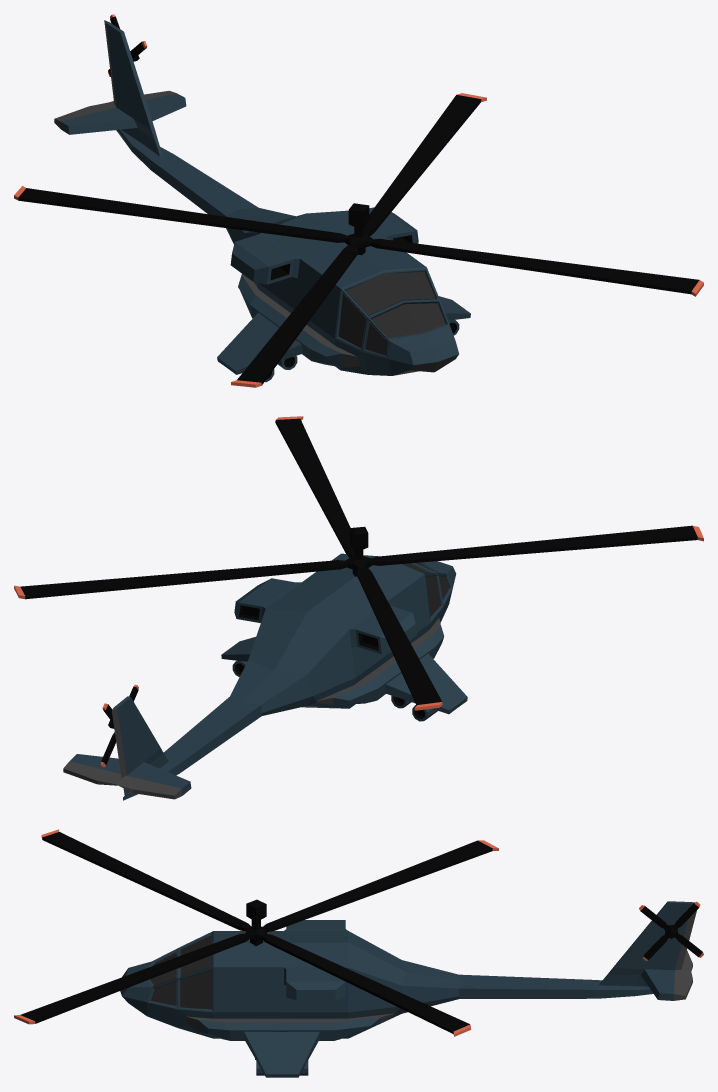
Rendered from helicopter_f9221593.glb.
3 renders of one model, top to bottom at view 1: azimuth 30°, elevation 25°; view 2: azimuth 150°, elevation 25°; view 3: azimuth 270°, elevation 25°, orthographic. The views are drawn at different scales.
Parts seen in each view (by area): view 1: Helicopter body, Main Rotor; view 2: Helicopter body, Main Rotor; view 3: Helicopter body, Main Rotor, Tail Rotor.
Boxes of the visible parts, left/top/right/bottom form: Helicopter body: left=54, top=20, right=470, bottom=382; Main Rotor: left=14, top=93, right=703, bottom=387; Helicopter body: left=63, top=553, right=467, bottom=800; Main Rotor: left=14, top=416, right=703, bottom=710; Helicopter body: left=120, top=901, right=696, bottom=1077; Main Rotor: left=14, top=829, right=498, bottom=1036; Tail Rotor: left=639, top=901, right=703, bottom=960.
Bounding box in the file's own units: 11.35 × 3.54 × 16.14.
